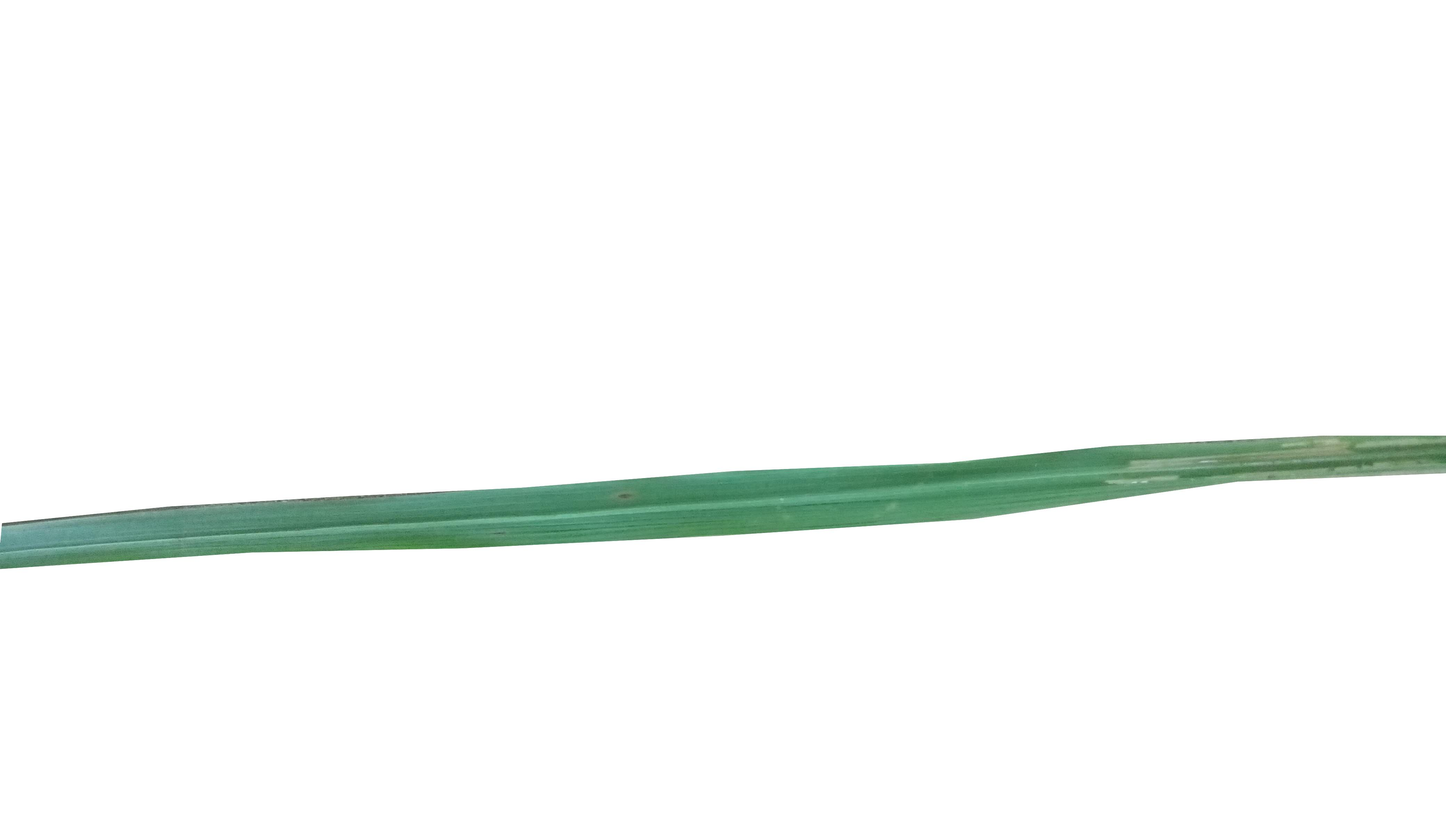Blight: (1125, 455, 1198, 480), (1277, 443, 1345, 462)
Brown spot: (616, 490, 635, 503)
